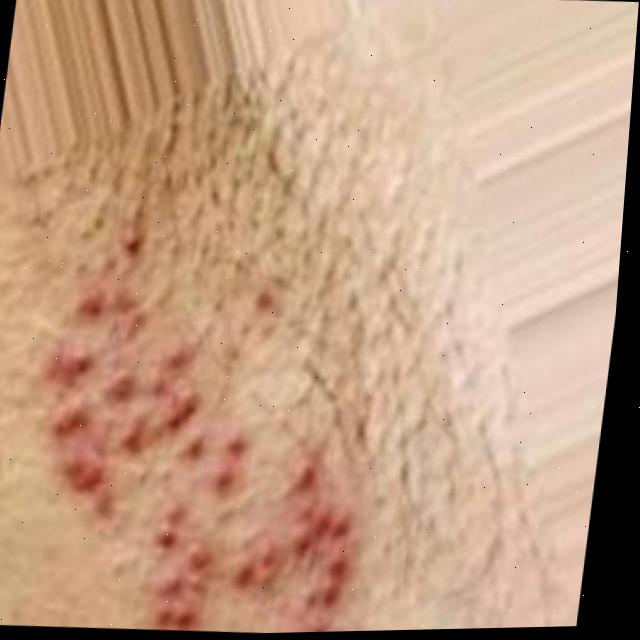Shingles: (34, 249, 381, 617)
